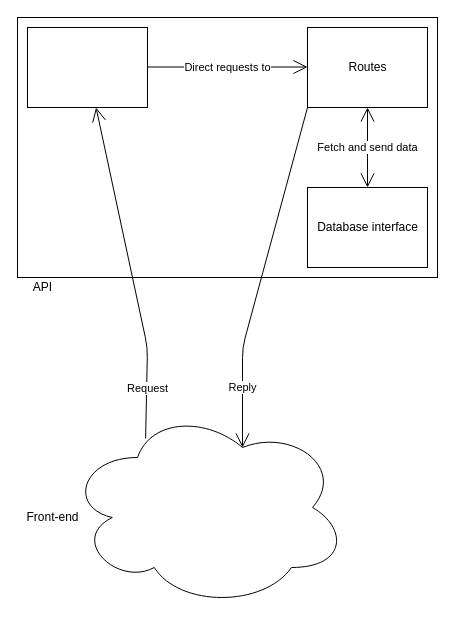
This 455x625 diagram has some shape labels left out. The centre of each missing label's shape, as x and y in pixels:
Currently unknown, React-based structure: the point at 207,507
Router: the point at 87,67
